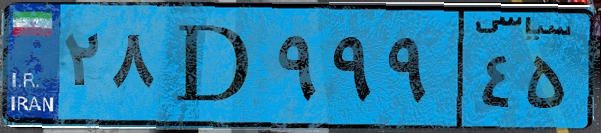2: (57, 26, 110, 100)
4: (475, 38, 525, 113)
5: (525, 38, 570, 115)
8: (110, 28, 158, 98)
9: (270, 28, 330, 110), (385, 28, 445, 110), (330, 28, 385, 110)
D: (158, 12, 270, 120)
